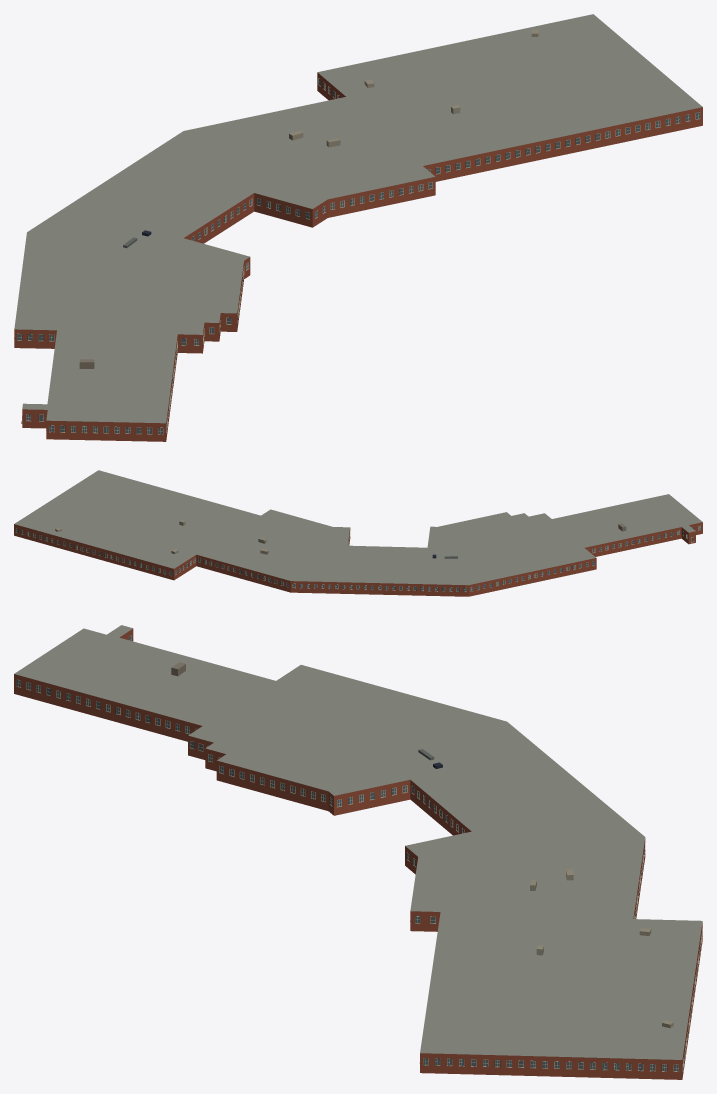
3 renders of one model, top to bottom at view 1: azimuth 30°, elevation 25°; view 2: azimuth 150°, elevation 25°; view 3: azimuth 270°, elevation 25°, orthographic. The views are drawn at different scales.
Visible parts, largest first — view 1: -6_-2_309459600_0; view 2: -6_-2_309459600_0; view 3: -6_-2_309459600_0.
Part boxes in pixels (x1=…): -6_-2_309459600_0: x1=14, y1=14, x2=702, y2=441; -6_-2_309459600_0: x1=14, y1=470, x2=702, y2=596; -6_-2_309459600_0: x1=14, y1=625, x2=702, y2=1079.
Size of the model in its own units: 330 by 9.54 by 221.
